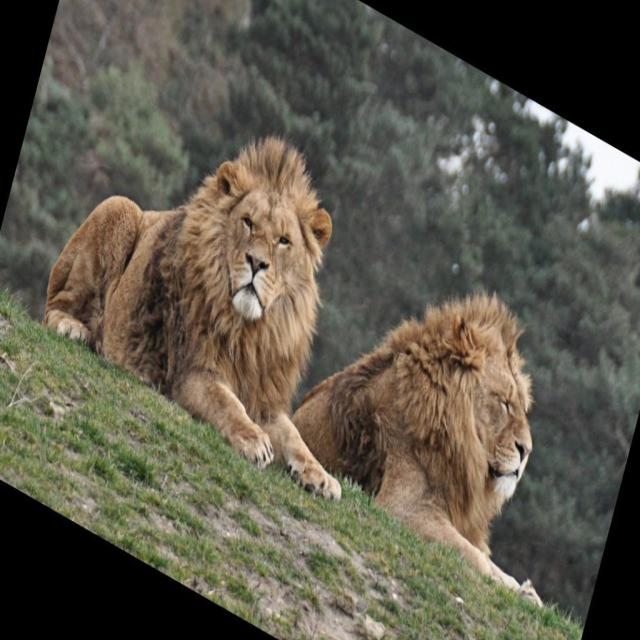Lion: (34, 25, 416, 513), (282, 204, 608, 611)
